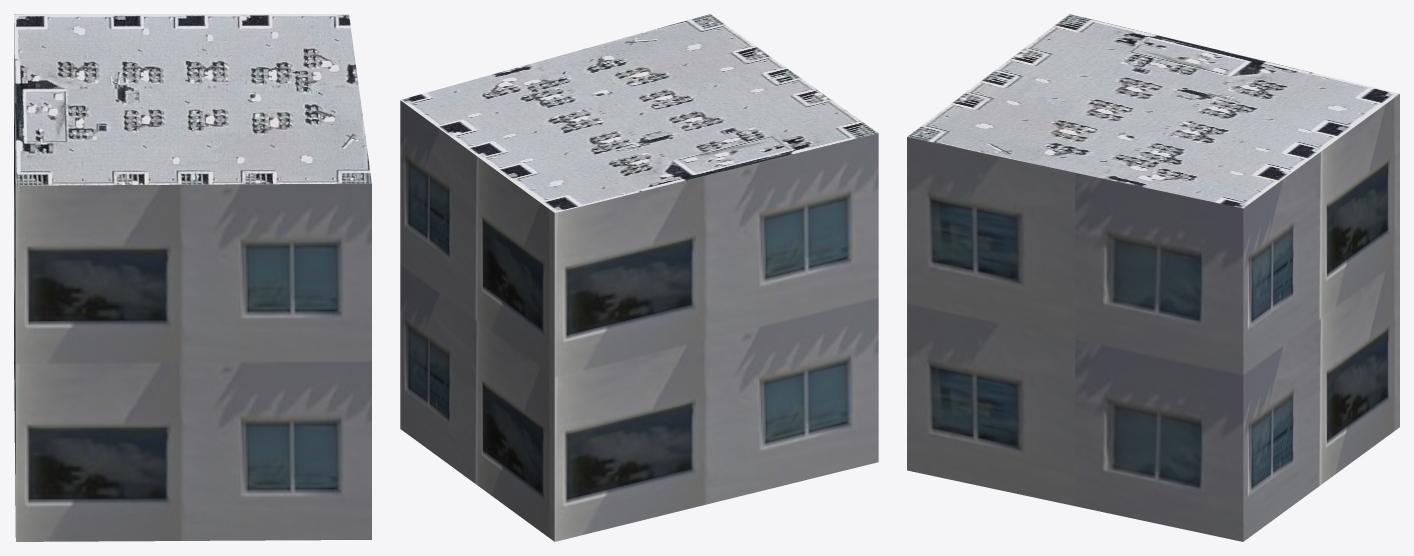
Rendered from ResTex__4069.fbx.
3 renders of one model, left to right at view 1: azimuth 30°, elevation 25°; view 2: azimuth 150°, elevation 25°; view 3: azimuth 270°, elevation 25°, orthographic. The views are drawn at different scales.
Parts seen in each view (by area): view 1: CityEngineMaterial_10_m, CityEngineMaterial_m; view 2: CityEngineMaterial_10_m, CityEngineMaterial_m; view 3: CityEngineMaterial_10_m, CityEngineMaterial_m.
Boxes of the visible parts, left/top/right/bottom form: CityEngineMaterial_10_m: left=14, top=23, right=371, bottom=541; CityEngineMaterial_m: left=14, top=14, right=371, bottom=185; CityEngineMaterial_10_m: left=400, top=100, right=878, bottom=541; CityEngineMaterial_m: left=400, top=14, right=878, bottom=212; CityEngineMaterial_10_m: left=907, top=94, right=1399, bottom=541; CityEngineMaterial_m: left=907, top=14, right=1399, bottom=208.
Bounding box in the file's own units: 7.51 × 6 × 8.04.
2 materials, 2 textured.
